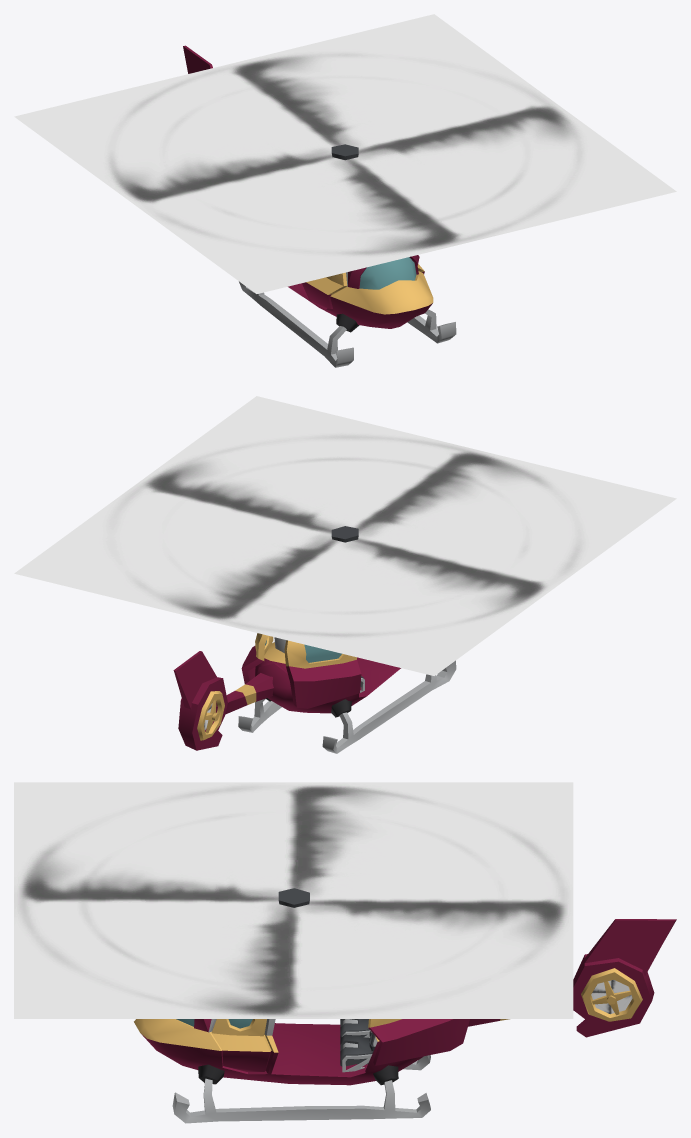
Rendered from Kingpin_Helicopter.fbx.
3 renders of one model, top to bottom at view 1: azimuth 30°, elevation 25°; view 2: azimuth 150°, elevation 25°; view 3: azimuth 270°, elevation 25°, orthographic. The views are drawn at different scales.
Parts seen in each view (by area): view 1: Kingpin_Helicopter_Propeller, Kingpin_Helicopter; view 2: Kingpin_Helicopter_Propeller, Kingpin_Helicopter; view 3: Kingpin_Helicopter_Propeller, Kingpin_Helicopter, Kingpin_Helicopter_Propeller01.
Boxes of the visible parts, x1,y1,x2,y2 form: Kingpin_Helicopter_Propeller: (14,14,676,293); Kingpin_Helicopter: (183,45,456,367); Kingpin_Helicopter_Propeller: (14,396,676,675); Kingpin_Helicopter: (173,526,456,753); Kingpin_Helicopter_Propeller: (14,782,573,1018); Kingpin_Helicopter: (134,888,676,1123); Kingpin_Helicopter_Propeller01: (591,979,632,1014).
Size of the model in its own units: 19.42 by 7.5 by 23.02.
Materials: 4 (2 with a texture image).
